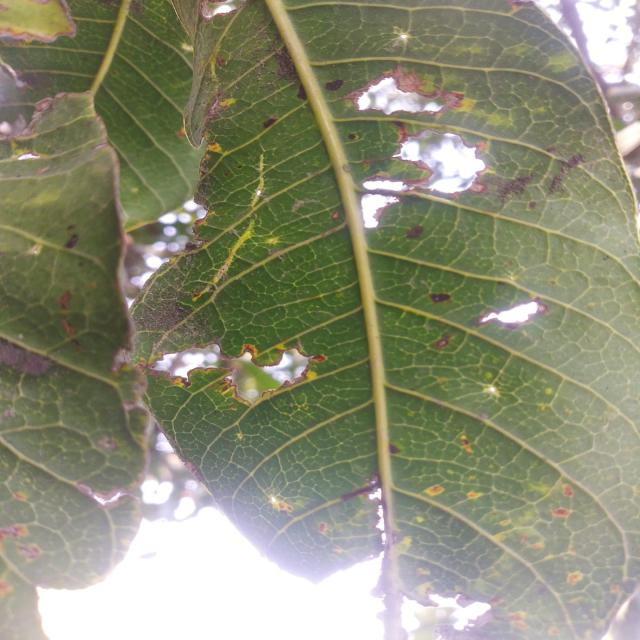Anthracnose: (514, 154, 587, 207), (544, 505, 594, 530), (425, 287, 465, 313), (57, 225, 89, 252), (260, 110, 280, 137), (420, 482, 450, 498)
Bacterial Cancer: (361, 62, 503, 225), (222, 331, 326, 422), (487, 298, 560, 341)
